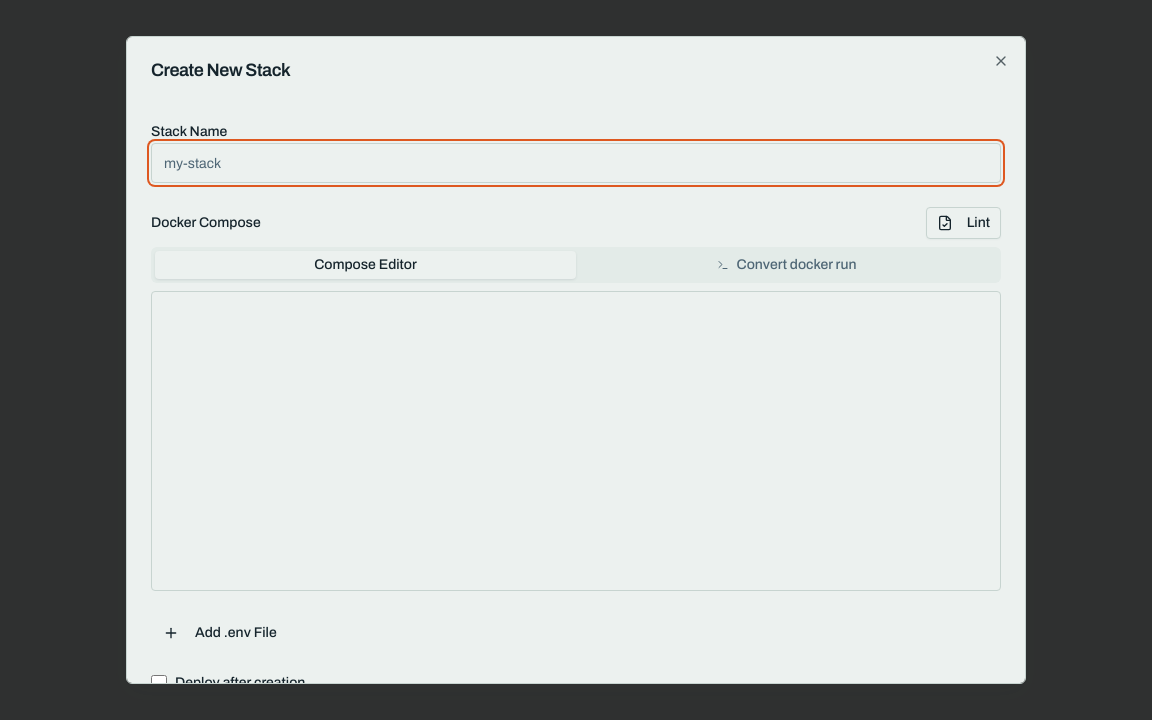
CreateStackDialog › shows a required error when the name is cleared after being typed
The width and height of the screenshot is (1152, 720).
Step 1. Type "x" into the field labelled "Stack Name" → (576, 163), box [151,143,1001,183]
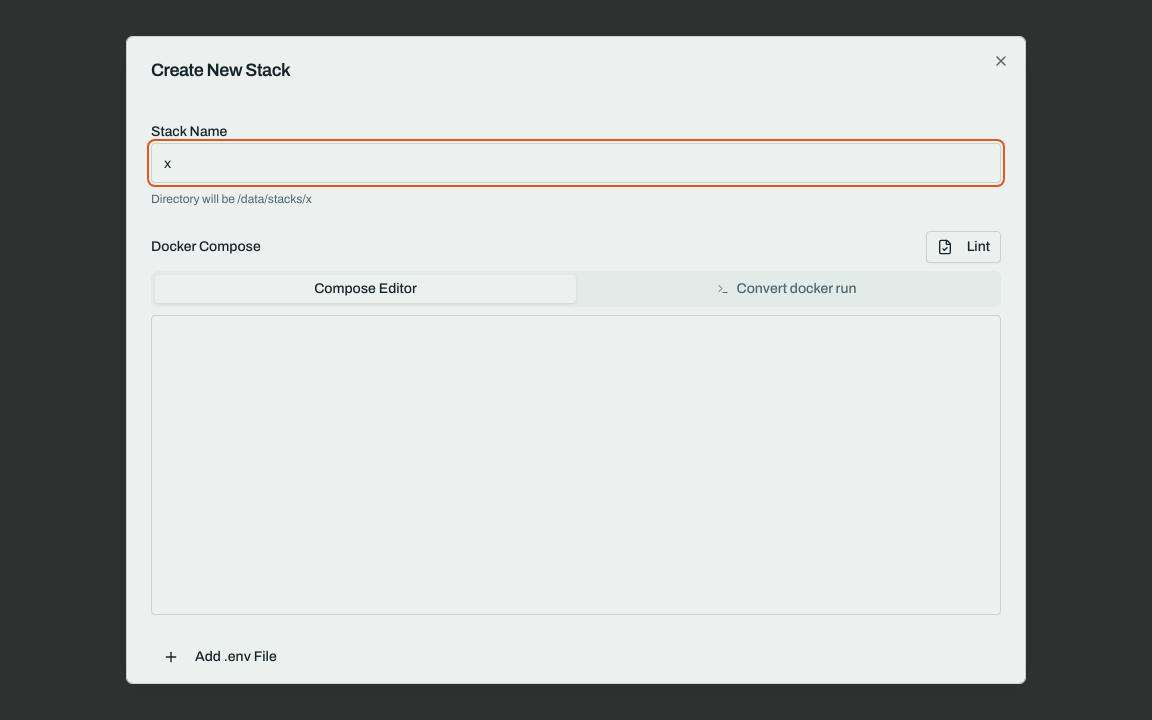
Step 2. Clear the field labelled "Stack Name" → (576, 163), box [151,143,1001,183]
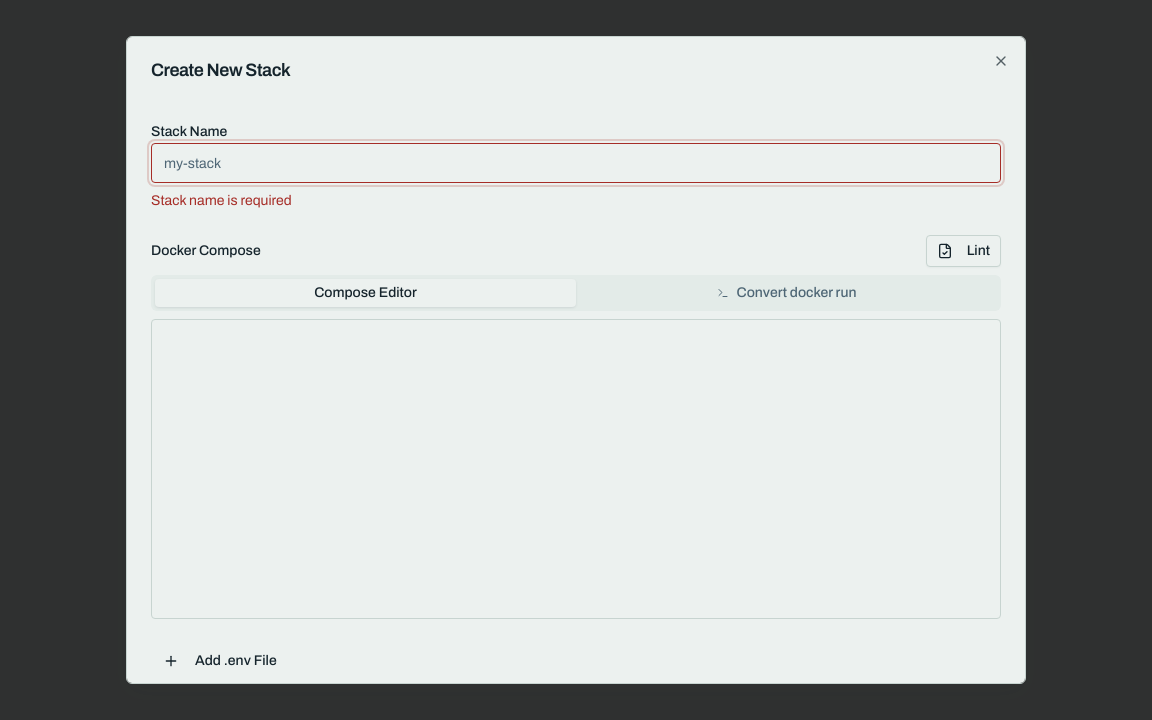
Result: the text with id "stack-name-error" reads "Stack name is required" at [151,193,292,208]
